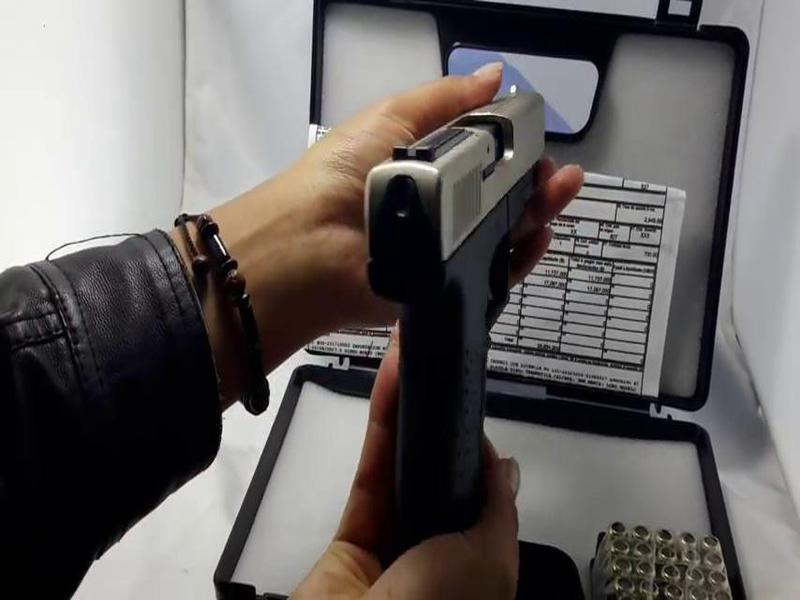Pistola: (347, 53, 577, 522)
